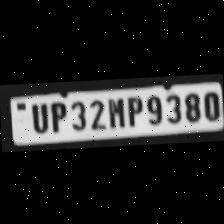0: (198, 86, 221, 119)
2: (86, 95, 106, 129)
3: (66, 96, 86, 130), (162, 90, 182, 124)
8: (180, 89, 202, 123)
9: (141, 92, 163, 124)
M: (105, 94, 125, 128)
P: (122, 92, 144, 125), (46, 98, 66, 132)
U: (27, 100, 49, 132)
